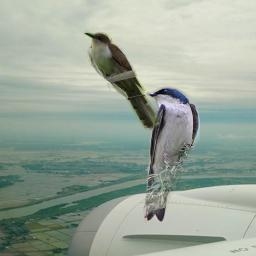Cuckoo: (83, 30, 160, 130)
Swallow: (141, 86, 200, 223)
